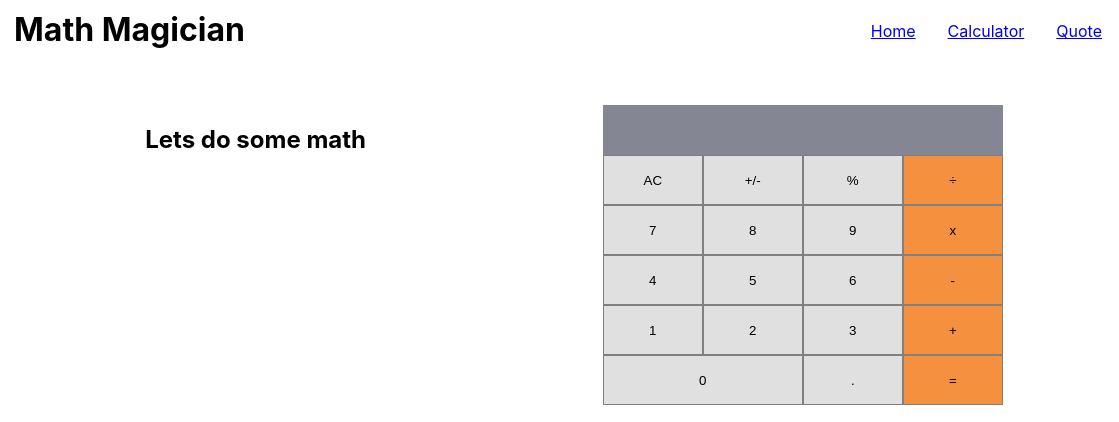
it: test the routing functionality › Quote  page should be visible after clicking on the Quote link
This screenshot has width=1119, height=422.
Click the link "Quote".
click(1079, 31)  # box [1056, 21, 1102, 41]
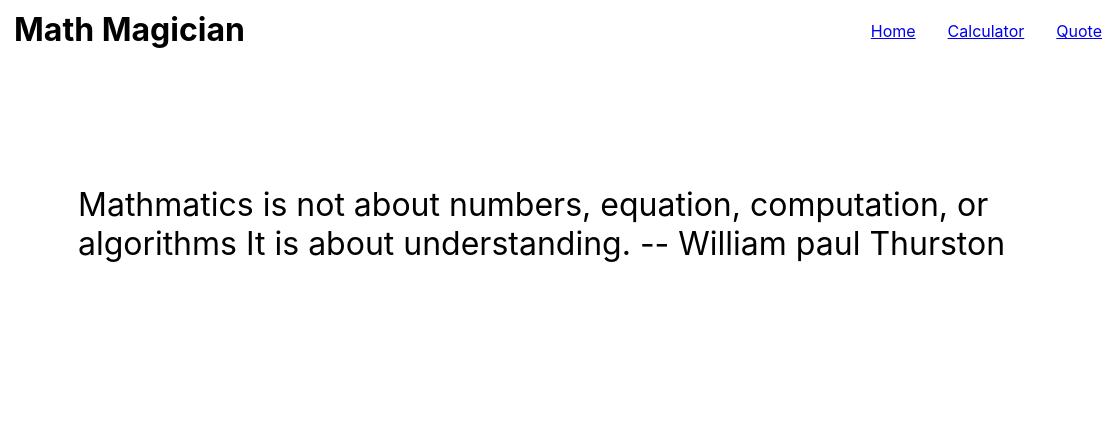
Expected: the element with test id "quote-page" is shown, [78, 185, 1005, 263]
